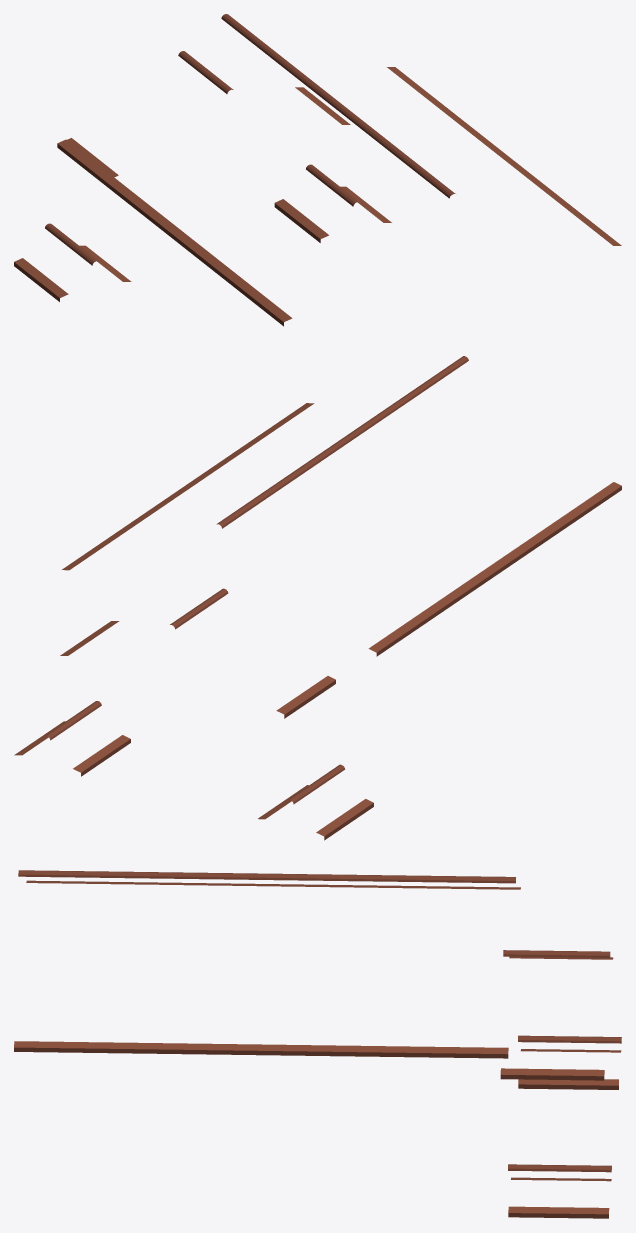
The picture shows the model from 3 angles, top to bottom: view 1: azimuth 30°, elevation 25°; view 2: azimuth 150°, elevation 25°; view 3: azimuth 270°, elevation 25°; orthographic projection. The views are drawn at different scales.
Visible parts, largest first — view 1: detail; view 2: detail; view 3: detail.
Part boxes in pixels (x1,y1,x2,y2): detail: (14, 14, 621, 326); detail: (14, 356, 621, 840); detail: (14, 870, 621, 1218).
Size of the model in its own units: 12.79 by 8.99 by 18.95.
